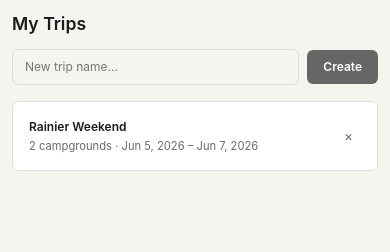
Test: TripsPage destructive delete › a failed delete surfaces an error and keeps the row
Expected: the text "Rainier Weekend" is shown, x1=29 y1=119 x2=126 y2=134
What coordinates should you click on to do the following:
click the button named "Delete Rainier Weekend"
I would click on:
 (348, 136)
Its box is x1=336 y1=114 x2=361 y2=158.
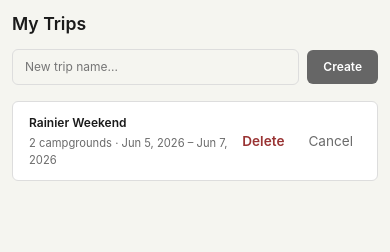
What coordinates should you click on to do the following:
click the button with aria-label "Confirm delete Rainier Weekend"
I would click on:
 (263, 141)
Its box is x1=234 y1=119 x2=292 y2=163.
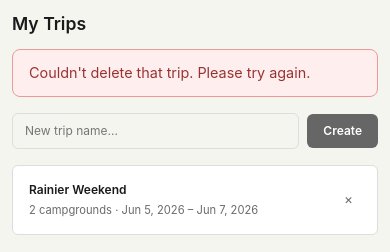
Expected: the text "Rainier Weekend" is shown, x1=29 y1=182 x2=126 y2=197
Now the message "Couldn't delete that trip. Please try again." is shown, box x1=12 y1=49 x2=378 y2=97
